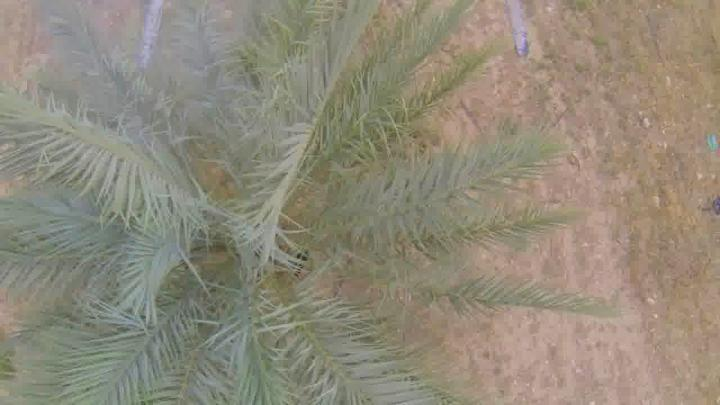Date-Palm-Crown: (38, 40, 402, 404)
